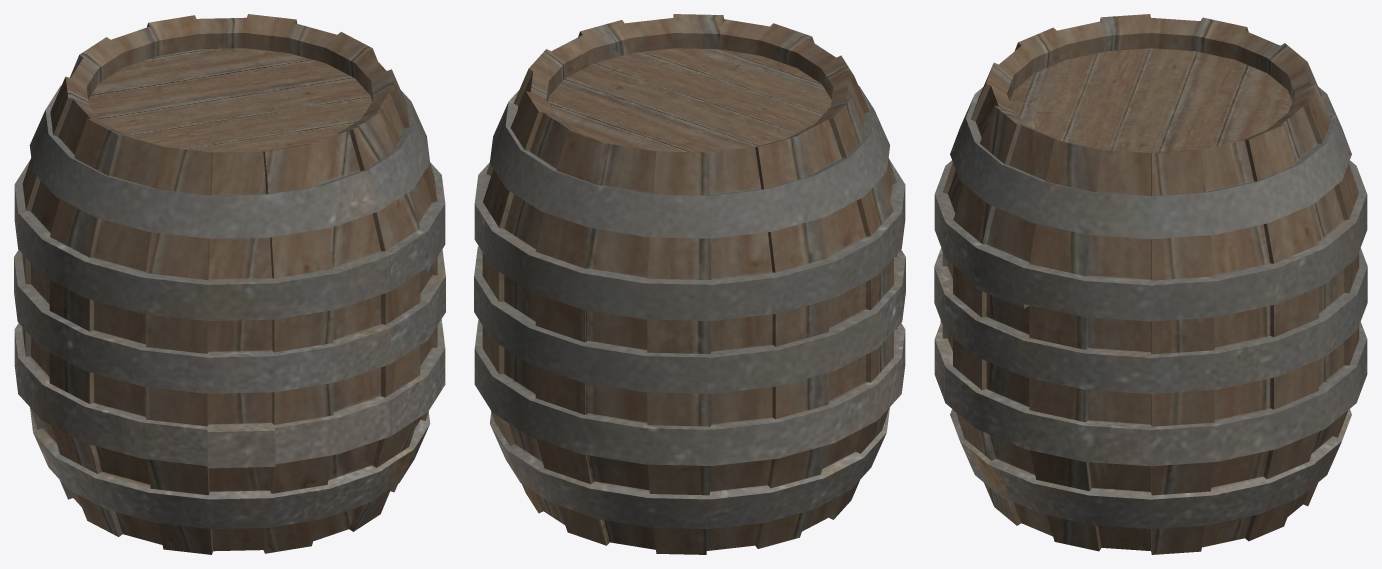
File: barrel-1.fbx
3 renders of one model, left to right at view 1: azimuth 30°, elevation 25°; view 2: azimuth 150°, elevation 25°; view 3: azimuth 270°, elevation 25°, orthographic.
Parts seen in each view (by area): view 1: ColoredBarrel; view 2: ColoredBarrel; view 3: ColoredBarrel.
Part boxes in pixels (x1,y1,x2,y2): ColoredBarrel: (14,14,445,554); ColoredBarrel: (474,14,905,554); ColoredBarrel: (934,14,1367,554).
Size of the model in its own units: 15.43 by 15.77 by 15.43.
